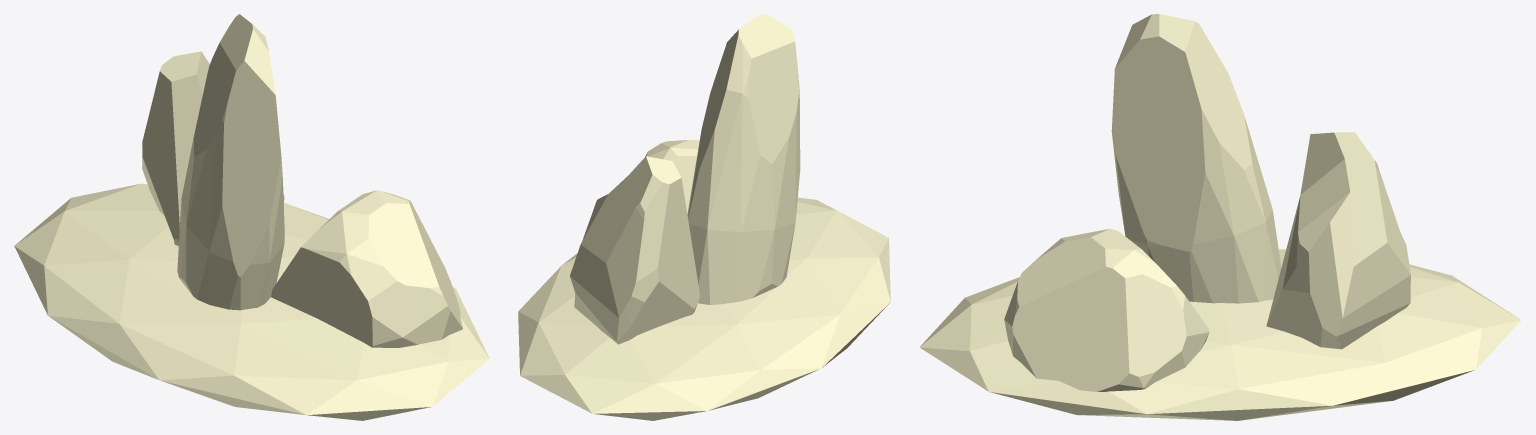
File: rockwall3.fbx
3 views of the same model, side by side, from view 1: azimuth 30°, elevation 25°; view 2: azimuth 150°, elevation 25°; view 3: azimuth 270°, elevation 25° (orthographic). The views are drawn at different scales.
Parts seen in each view (by area): view 1: Icosphere.019, Icosphere.022, Icosphere.021, Icosphere.020; view 2: Icosphere.019, Icosphere.022, Icosphere.020, Icosphere.021; view 3: Icosphere.019, Icosphere.022, Icosphere.021, Icosphere.020.
Boxes of the visible parts, bbox=[...] form: Icosphere.019: bbox=[14, 183, 489, 420]; Icosphere.022: bbox=[177, 14, 284, 310]; Icosphere.021: bbox=[271, 190, 462, 347]; Icosphere.020: bbox=[142, 51, 284, 245]; Icosphere.019: bbox=[518, 197, 890, 420]; Icosphere.022: bbox=[687, 14, 800, 304]; Icosphere.020: bbox=[570, 156, 699, 344]; Icosphere.021: bbox=[645, 140, 699, 214]; Icosphere.019: bbox=[919, 249, 1521, 420]; Icosphere.022: bbox=[1111, 14, 1281, 303]; Icosphere.021: bbox=[1004, 228, 1209, 391]; Icosphere.020: bbox=[1266, 132, 1410, 349].
Size of the model in its own units: 1271 by 1298 by 2010.
